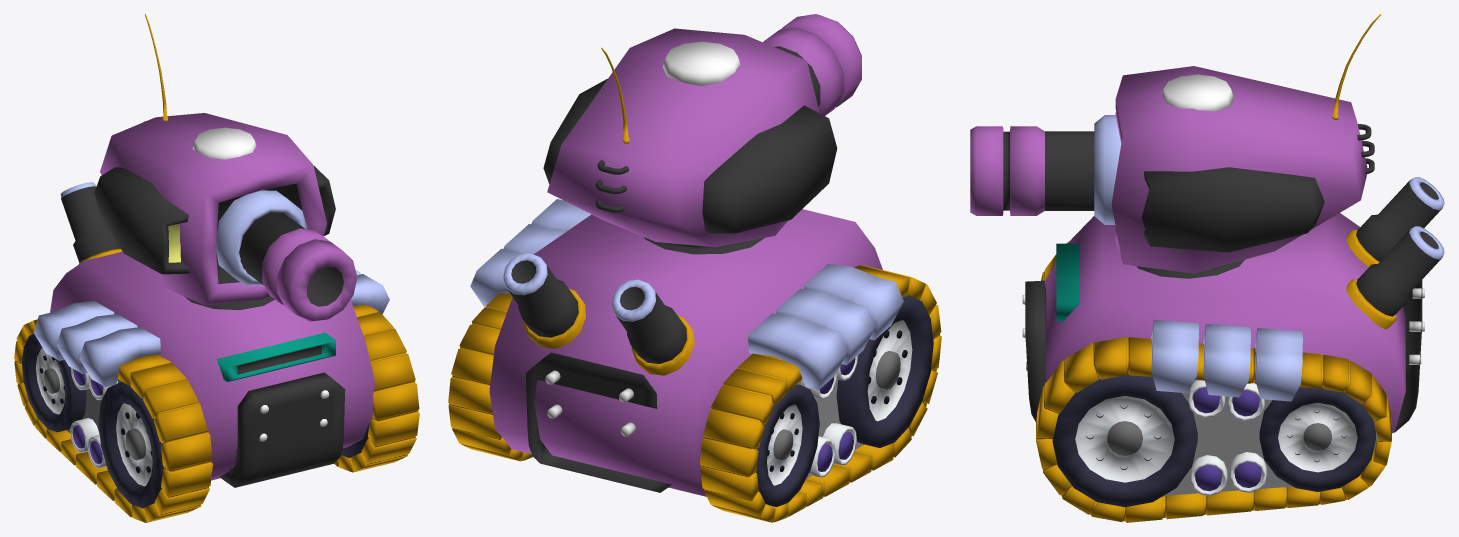
File: Tank5.fbx
3 renders of one model, left to right at view 1: azimuth 30°, elevation 25°; view 2: azimuth 150°, elevation 25°; view 3: azimuth 270°, elevation 25°, orthographic. The views are drawn at different scales.
Visible parts, largest first — view 1: Tank5, Tank5.Turret, Tank5.Wheel2, Tank5.Wheel4; view 2: Tank5, Tank5.Turret, Tank5.Wheel2, Tank5.Wheel4; view 3: Tank5, Tank5.Turret, Tank5.Wheel1, Tank5.Wheel3.
Boxes of the visible parts, x1=… form: Tank5: x1=14, y1=182, x2=419, y2=522; Tank5.Turret: x1=94, y1=14, x2=357, y2=321; Tank5.Wheel2: x1=98, y1=382, x2=164, y2=508; Tank5.Wheel4: x1=22, y1=334, x2=86, y2=432; Tank5: x1=448, y1=199, x2=941, y2=522; Tank5.Turret: x1=543, y1=14, x2=861, y2=254; Tank5.Wheel2: x1=836, y1=295, x2=933, y2=447; Tank5.Wheel4: x1=756, y1=384, x2=819, y2=506; Tank5: x1=1022, y1=177, x2=1444, y2=522; Tank5.Turret: x1=970, y1=14, x2=1381, y2=278; Tank5.Wheel1: x1=1052, y1=374, x2=1197, y2=507; Tank5.Wheel3: x1=1259, y1=387, x2=1375, y2=491.
Size of the model in its own units: 1.6 by 2.06 by 2.
